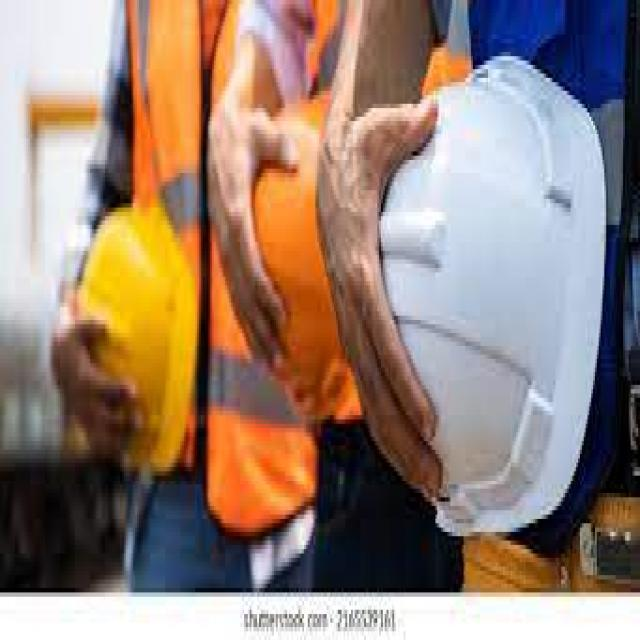construction-vest: (123, 7, 329, 536)
helmet: (385, 54, 610, 537), (244, 84, 362, 422), (64, 206, 195, 478)
